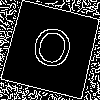O: (26, 24, 76, 79)
